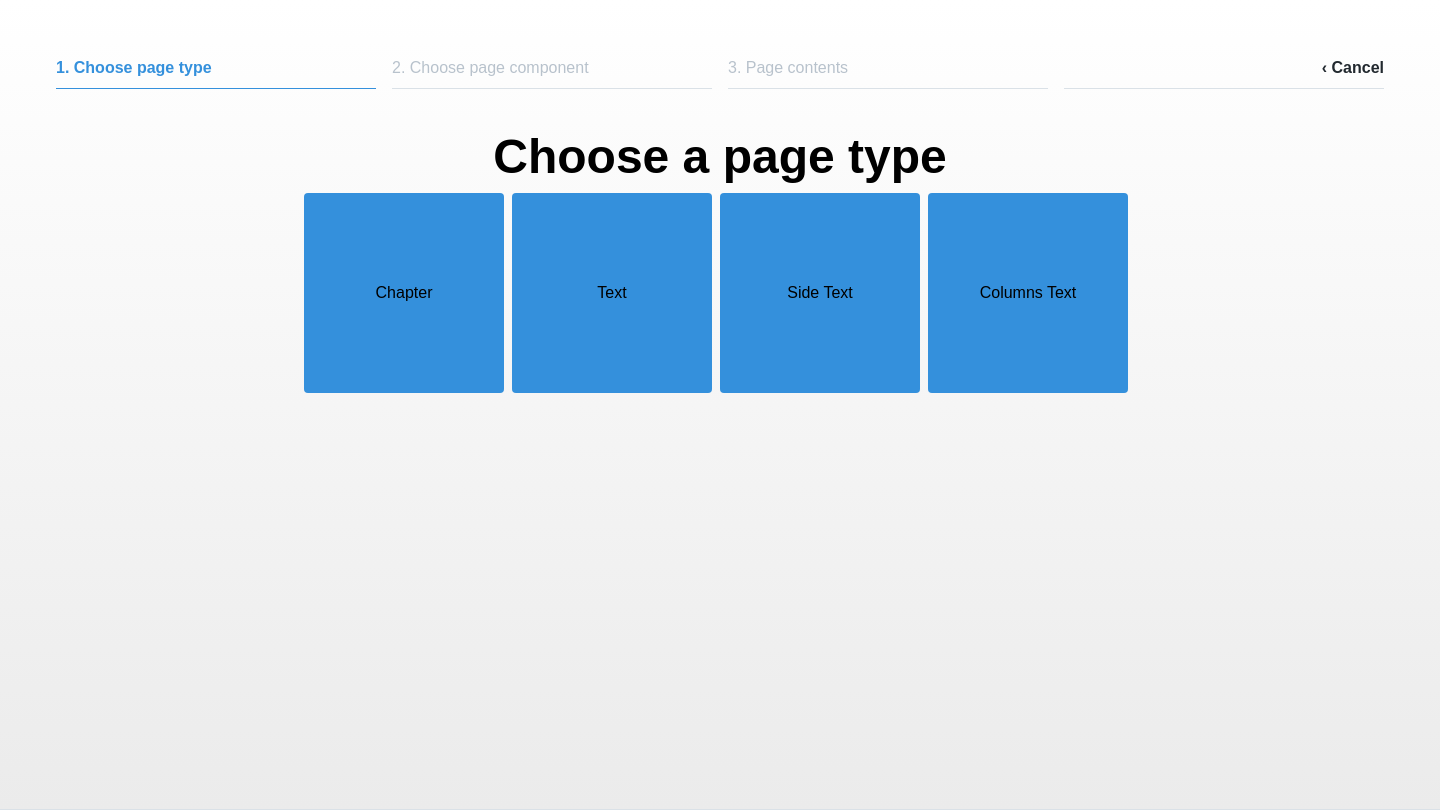
Scenario: PageSteps.vue › displays a page form and passes type and component
Click the list item with id "type-text-side" at (820,293), box [720,193,920,393]
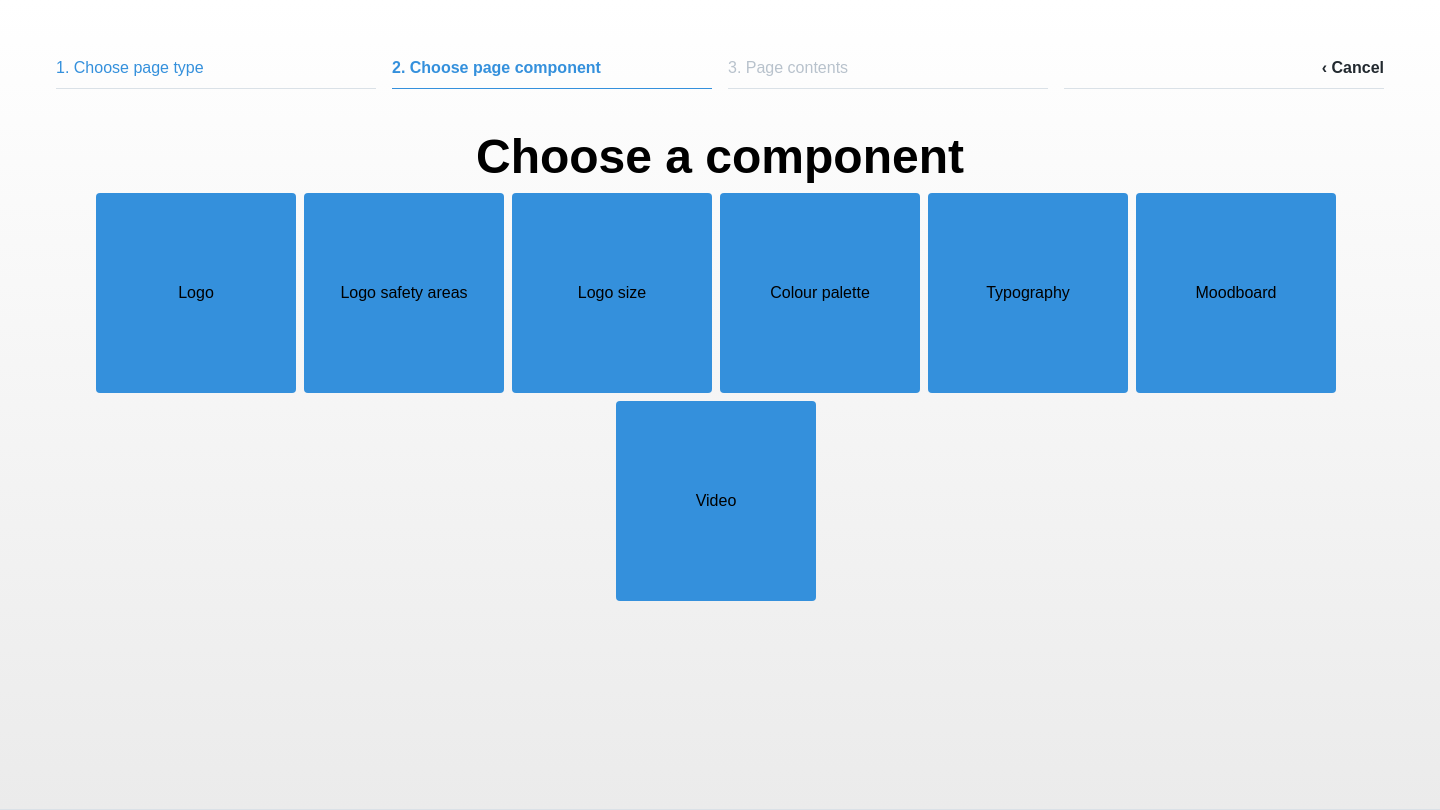
Click the list item with id "component-logo" at (196,293), box [96,193,296,393]
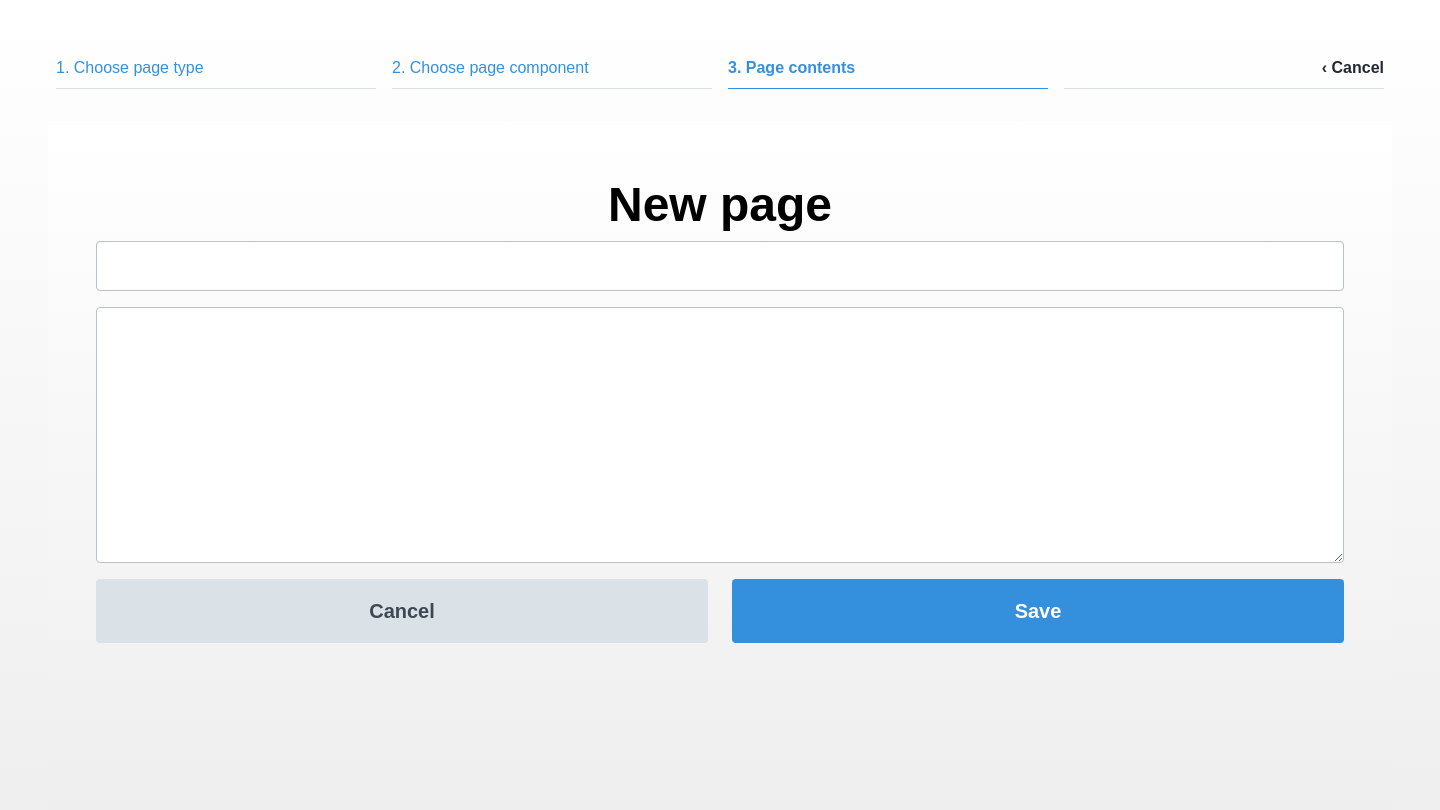
expect the form named "type" holds "text-side": met, box [96,169,1344,643]
expect the form named "component" holds "logo": met, box [96,169,1344,643]
